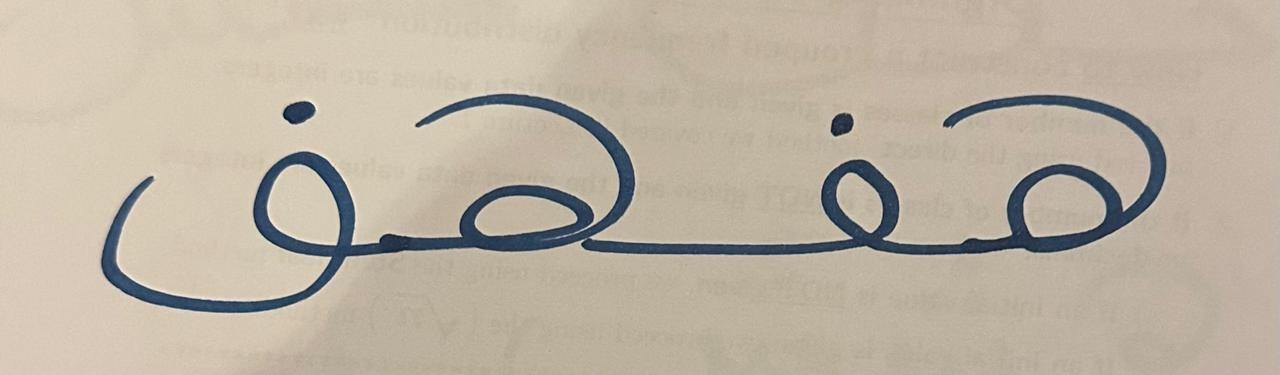feh: (52, 10, 365, 330), (684, 20, 921, 303)
jeem: (371, 22, 675, 302), (928, 12, 1199, 319)
